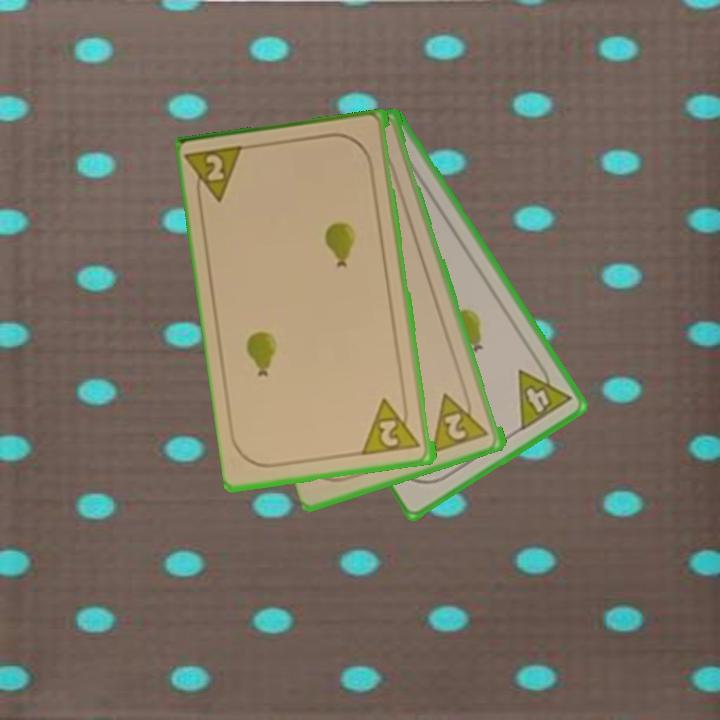2p: (429, 385, 492, 456), (185, 142, 250, 210), (360, 394, 424, 459)
4p: (514, 355, 574, 434)
